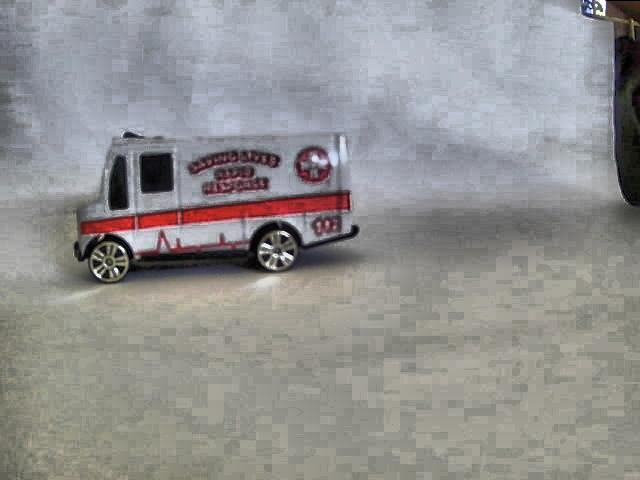ambulance: (72, 131, 358, 283)
